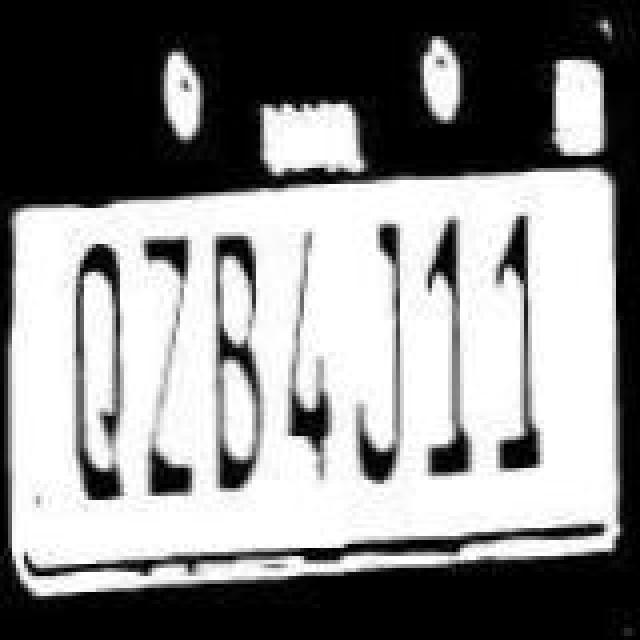1: (486, 208, 562, 480), (418, 214, 486, 486)
4: (268, 224, 340, 496)
B: (200, 224, 272, 500)
J: (346, 216, 422, 484)
Q: (64, 238, 136, 514)
Z: (134, 228, 202, 504)
